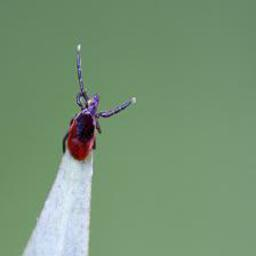Ixodes scapularis: (63, 48, 136, 163)
